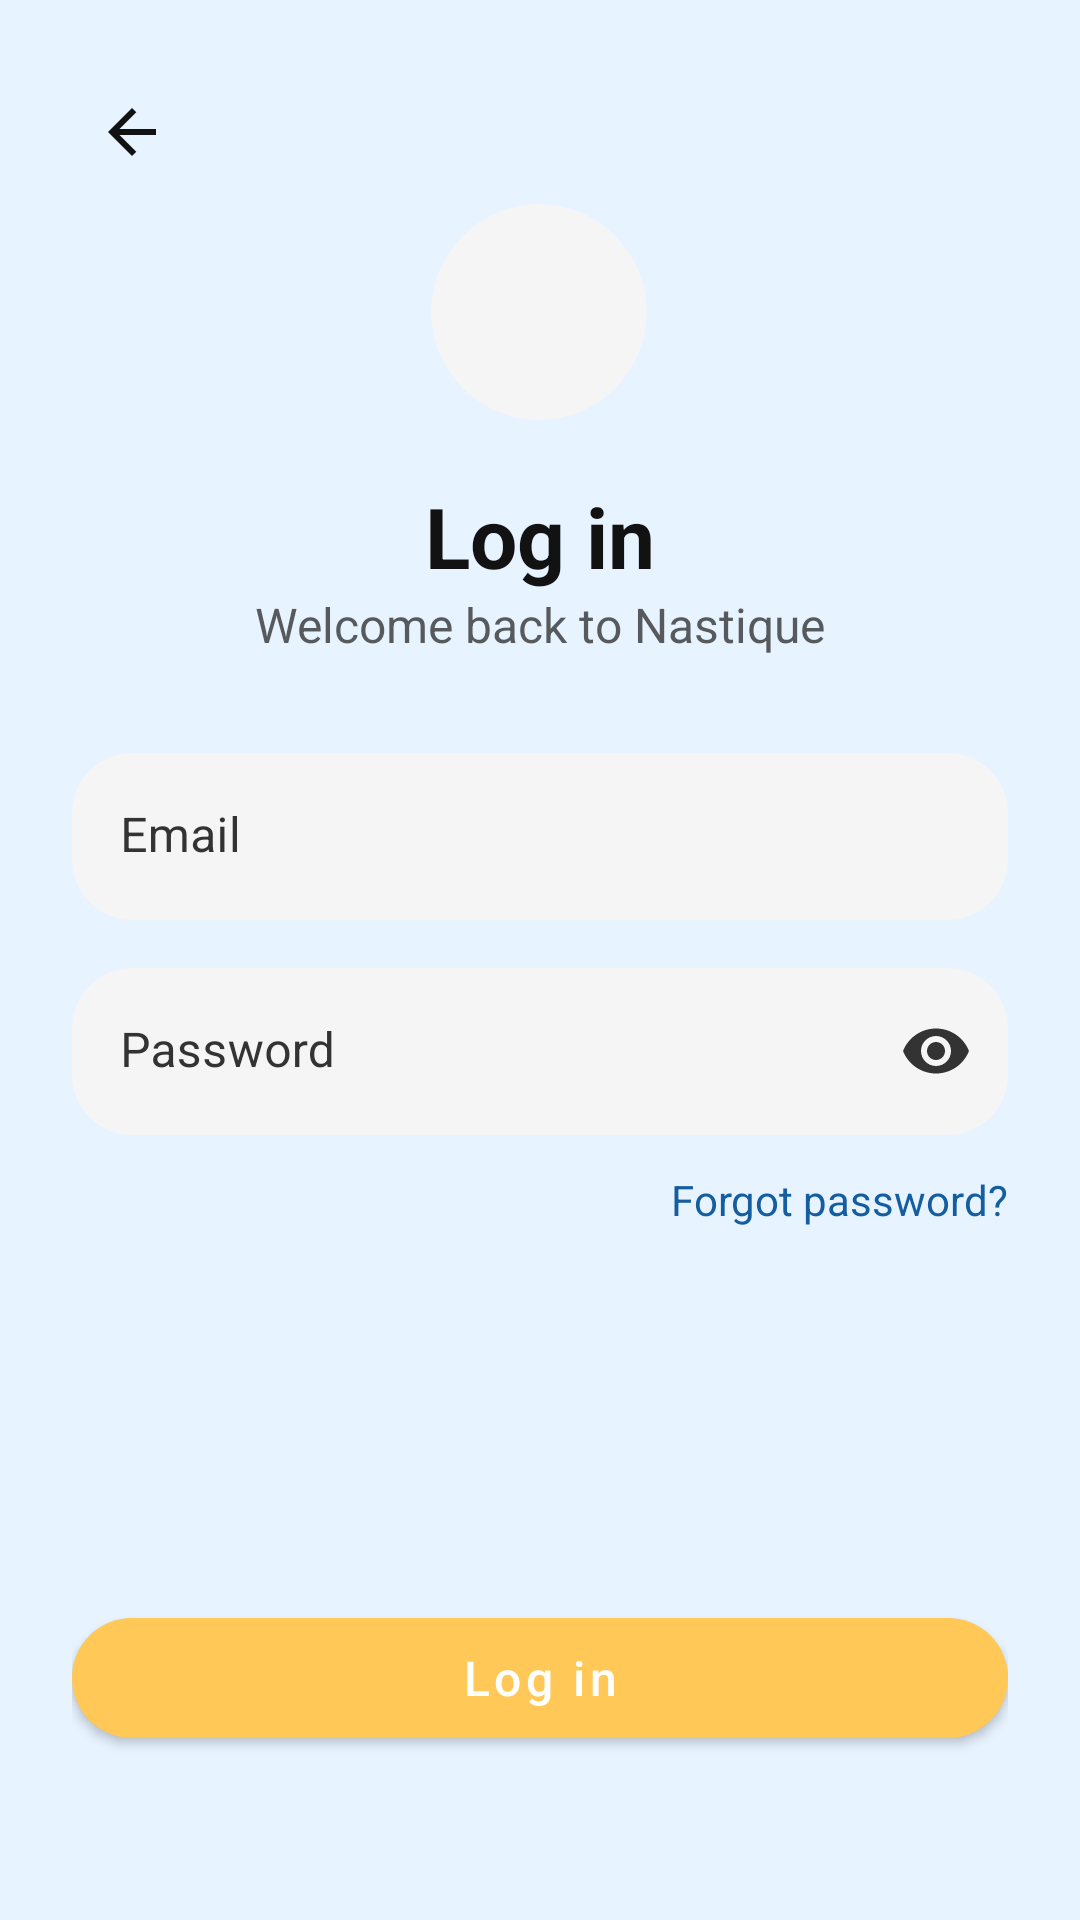

Icons on this 1080 x 1920 Android screen, each with its box as (x1, y1, x2, y2):
arrow back: (108, 108, 156, 156)
